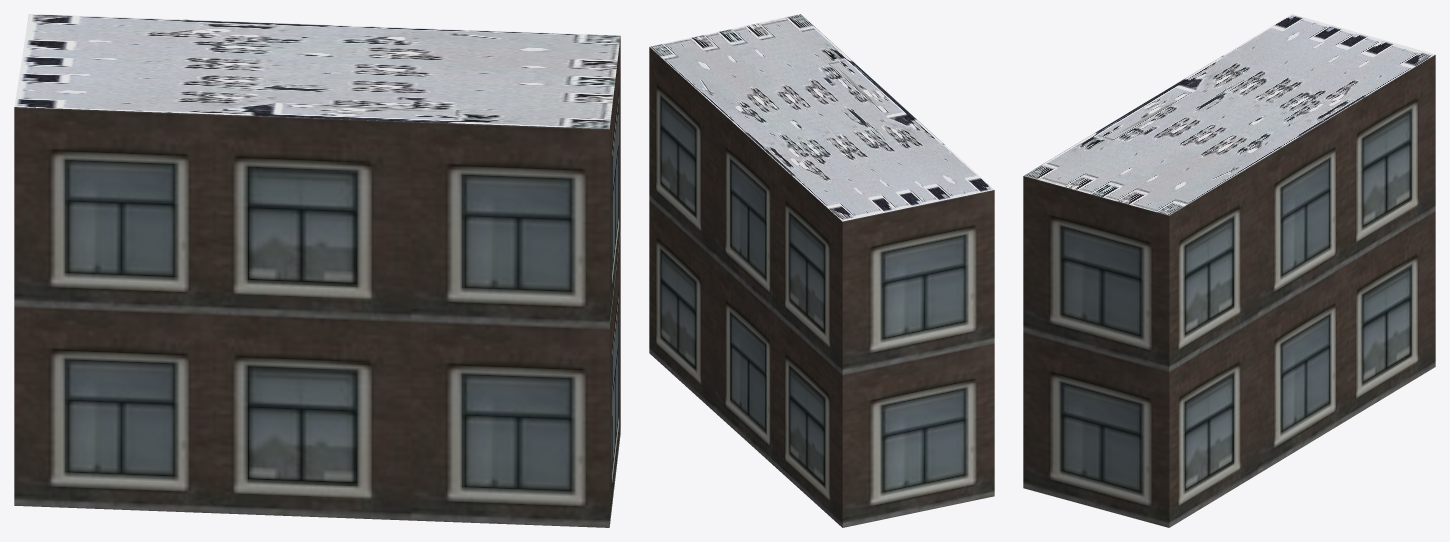
File: ResTex__4857.fbx
3 renders of one model, left to right at view 1: azimuth 30°, elevation 25°; view 2: azimuth 150°, elevation 25°; view 3: azimuth 270°, elevation 25°, orthographic. The views are drawn at different scales.
Visible parts, largest first — view 1: CityEngineMaterial_16_m, CityEngineMaterial_15_m; view 2: CityEngineMaterial_16_m, CityEngineMaterial_15_m; view 3: CityEngineMaterial_16_m, CityEngineMaterial_15_m.
Part boxes in pixels (x1,y1,x2,y2): CityEngineMaterial_16_m: (14,36,620,527); CityEngineMaterial_15_m: (14,14,620,129); CityEngineMaterial_16_m: (649,47,994,527); CityEngineMaterial_15_m: (650,14,994,221); CityEngineMaterial_16_m: (1023,55,1435,527); CityEngineMaterial_15_m: (1024,14,1435,215).
Bounding box in the file's own units: 8.31 × 6 × 7.18.
Materials: 2 (2 with a texture image).
